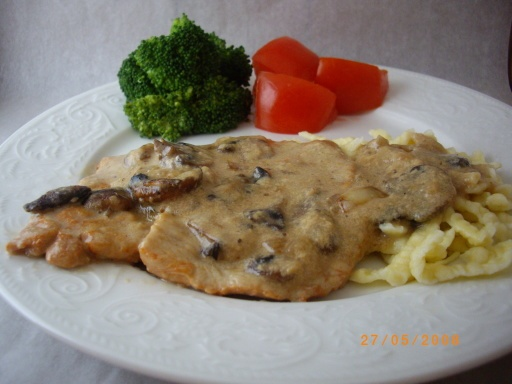background: (5, 7, 409, 181)
